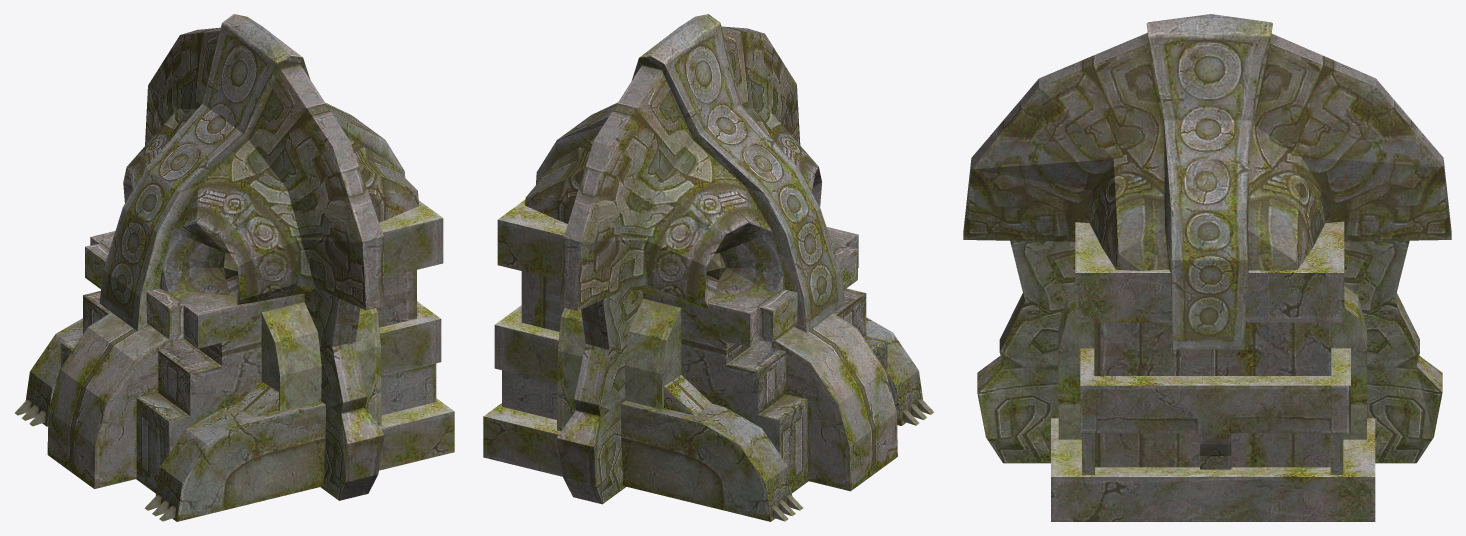
Rendered from bg_eud_moray_statue01_sm_artree.FBX.
3 views of the same model, side by side, from view 1: azimuth 30°, elevation 25°; view 2: azimuth 150°, elevation 25°; view 3: azimuth 270°, elevation 25° (orthographic). The views are drawn at different scales.
Parts seen in each view (by area): view 1: bg_eud_moray_statue01_sm_artree; view 2: bg_eud_moray_statue01_sm_artree; view 3: bg_eud_moray_statue01_sm_artree.
Boxes of the visible parts, <box> form: bg_eud_moray_statue01_sm_artree: <box>15,14,454,521</box>; bg_eud_moray_statue01_sm_artree: <box>483,14,934,521</box>; bg_eud_moray_statue01_sm_artree: <box>963,14,1451,521</box>.
Size of the model in its own units: 105 by 125 by 124.
